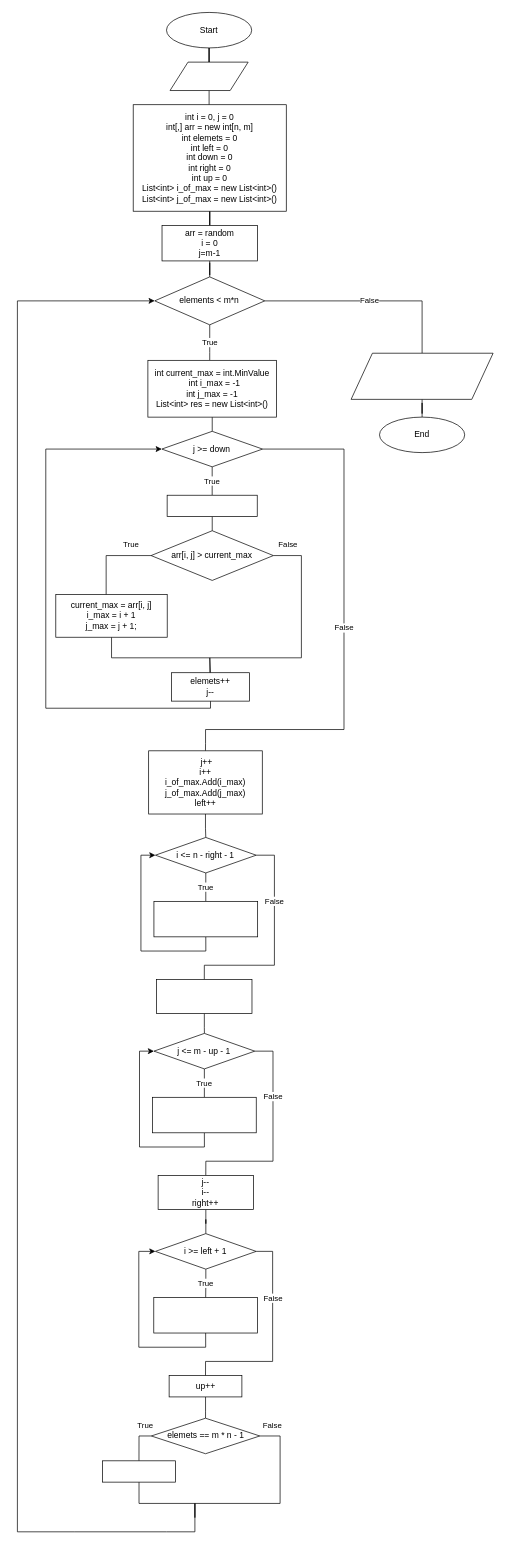
The diagram is 506 pixels wide and 1550 high, and some of its shapes have lost their labels. The centre of each missing label's shape, as x and y in pixels:
"i-- j++ down++" goes at (204,996).
"input: n, m є R" goes at (208,76).
"output: arr res i_of_max, j_of_max" goes at (421,376).
"res.Add(arr[i,j])" goes at (211,506).
"res.Add(arr[i,j]) break" goes at (138,1471).
"res.Add(arr[i,j]) elemets++ i++" goes at (205,919).
"res.Add(arr[i,j]) elemets++ i--" goes at (205,1315).
"res.Add(arr[i,j]) elemets++ j++" goes at (204,1115).
